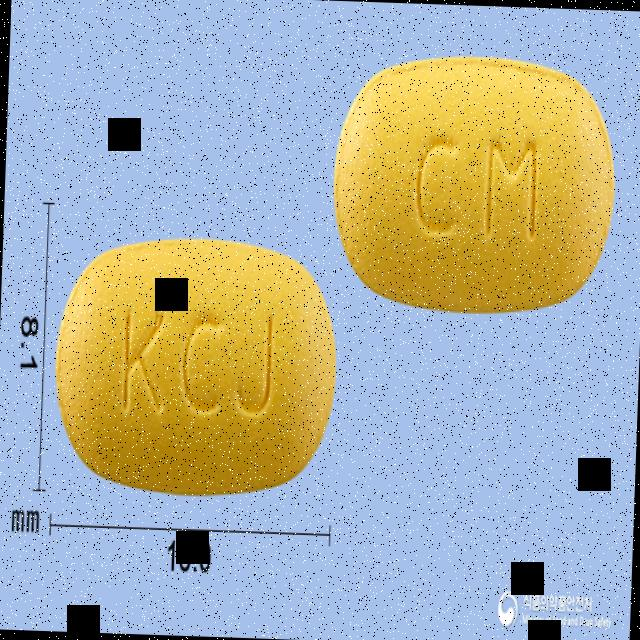Clamon Tab: (47, 222, 346, 505), (328, 52, 620, 318)
